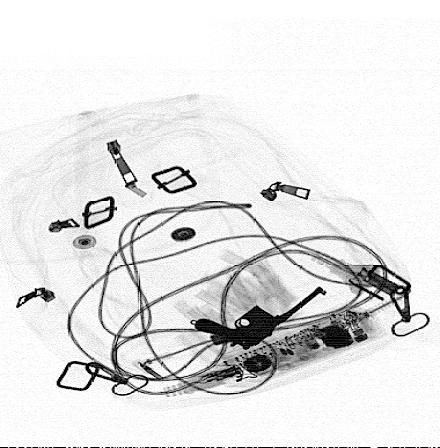Gun: (194, 285, 330, 351)
